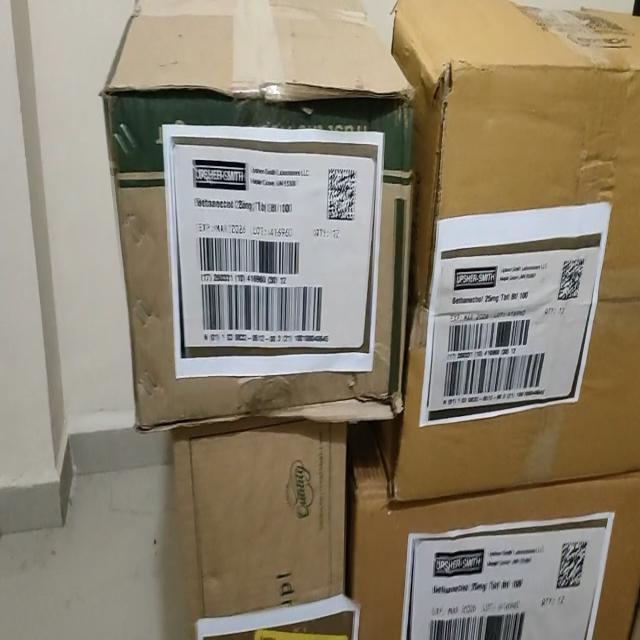BoxFace: (393, 0, 638, 503), (101, 81, 416, 431), (353, 470, 638, 638)
